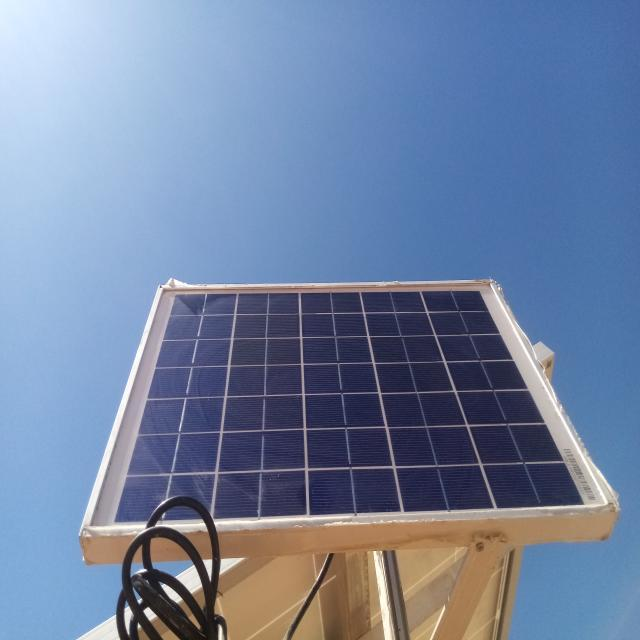no faulty: (84, 282, 615, 531)
